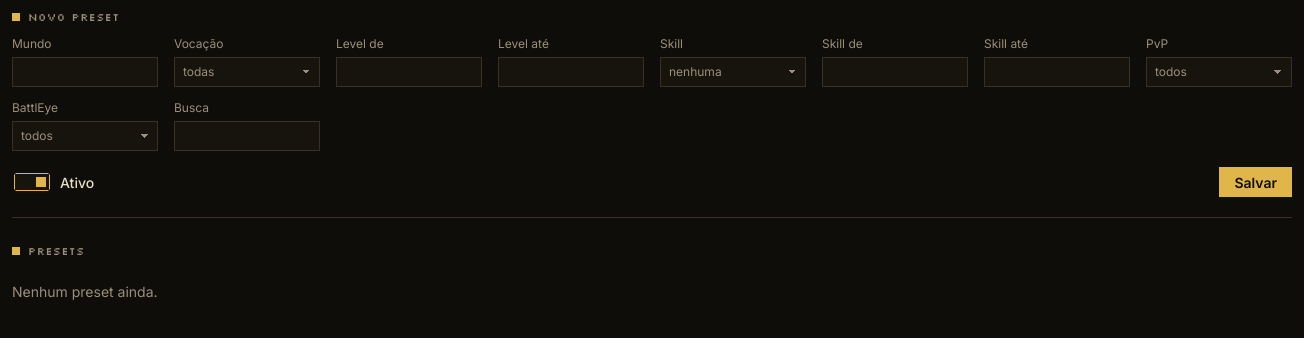
Test case: FiltersPage › cria um preset e ele aparece na lista
Expected: the text "Nenhum preset ainda." is shown, left=12, top=283, right=158, bottom=300
Type "Secura" into the field labelled "Mundo" at (85, 72), box left=12, top=57, right=158, bottom=87
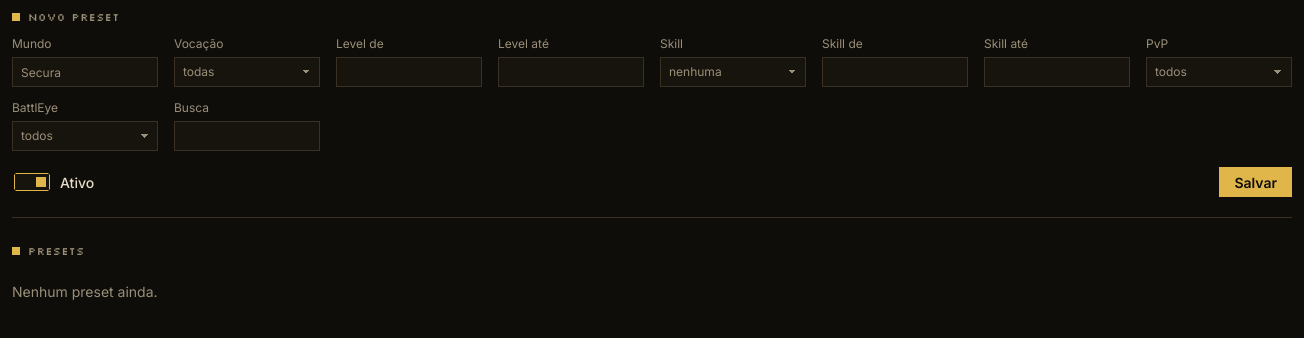
Click the button "Salvar" at (1256, 182), box left=1219, top=167, right=1292, bottom=197
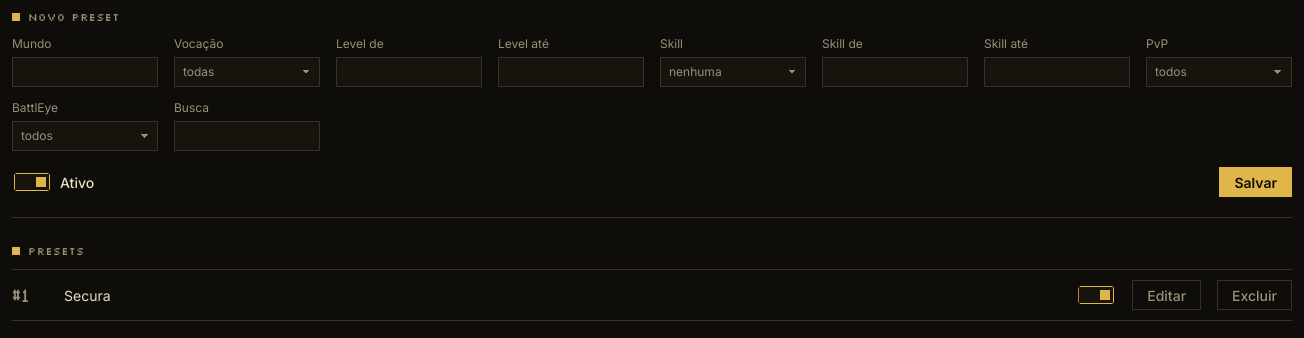
Expected: the text "Secura" is shown, left=64, top=286, right=111, bottom=304
